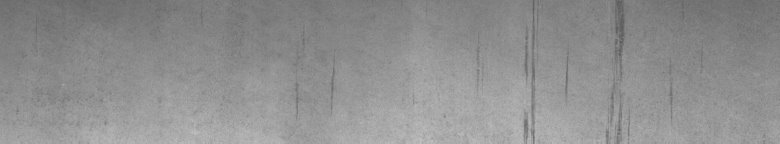ka: (520, 4, 672, 136)
